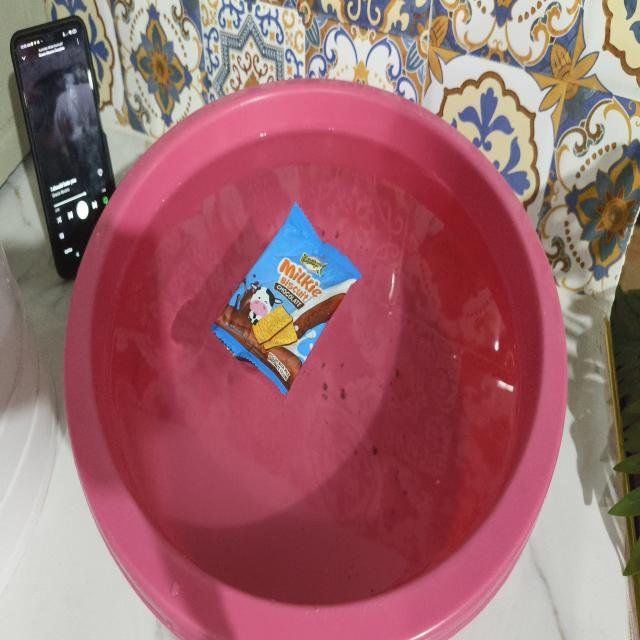Plastic Wrapper: (210, 202, 362, 394)
